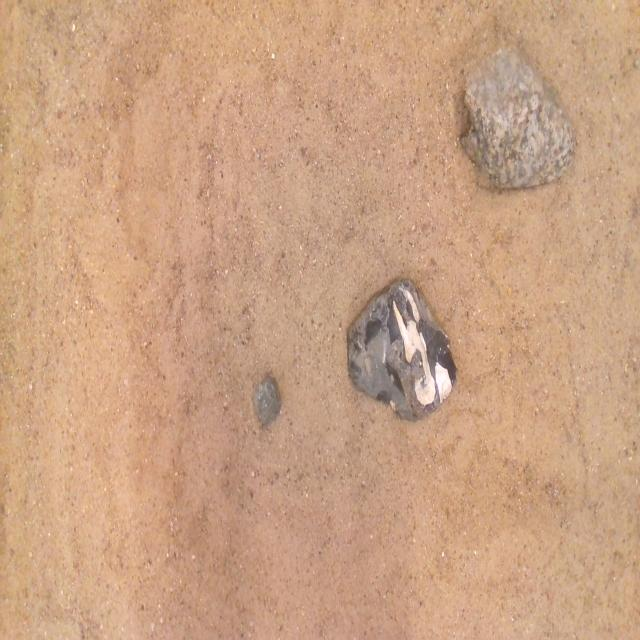rock: (461, 48, 574, 187), (348, 280, 456, 420), (252, 378, 281, 427)
